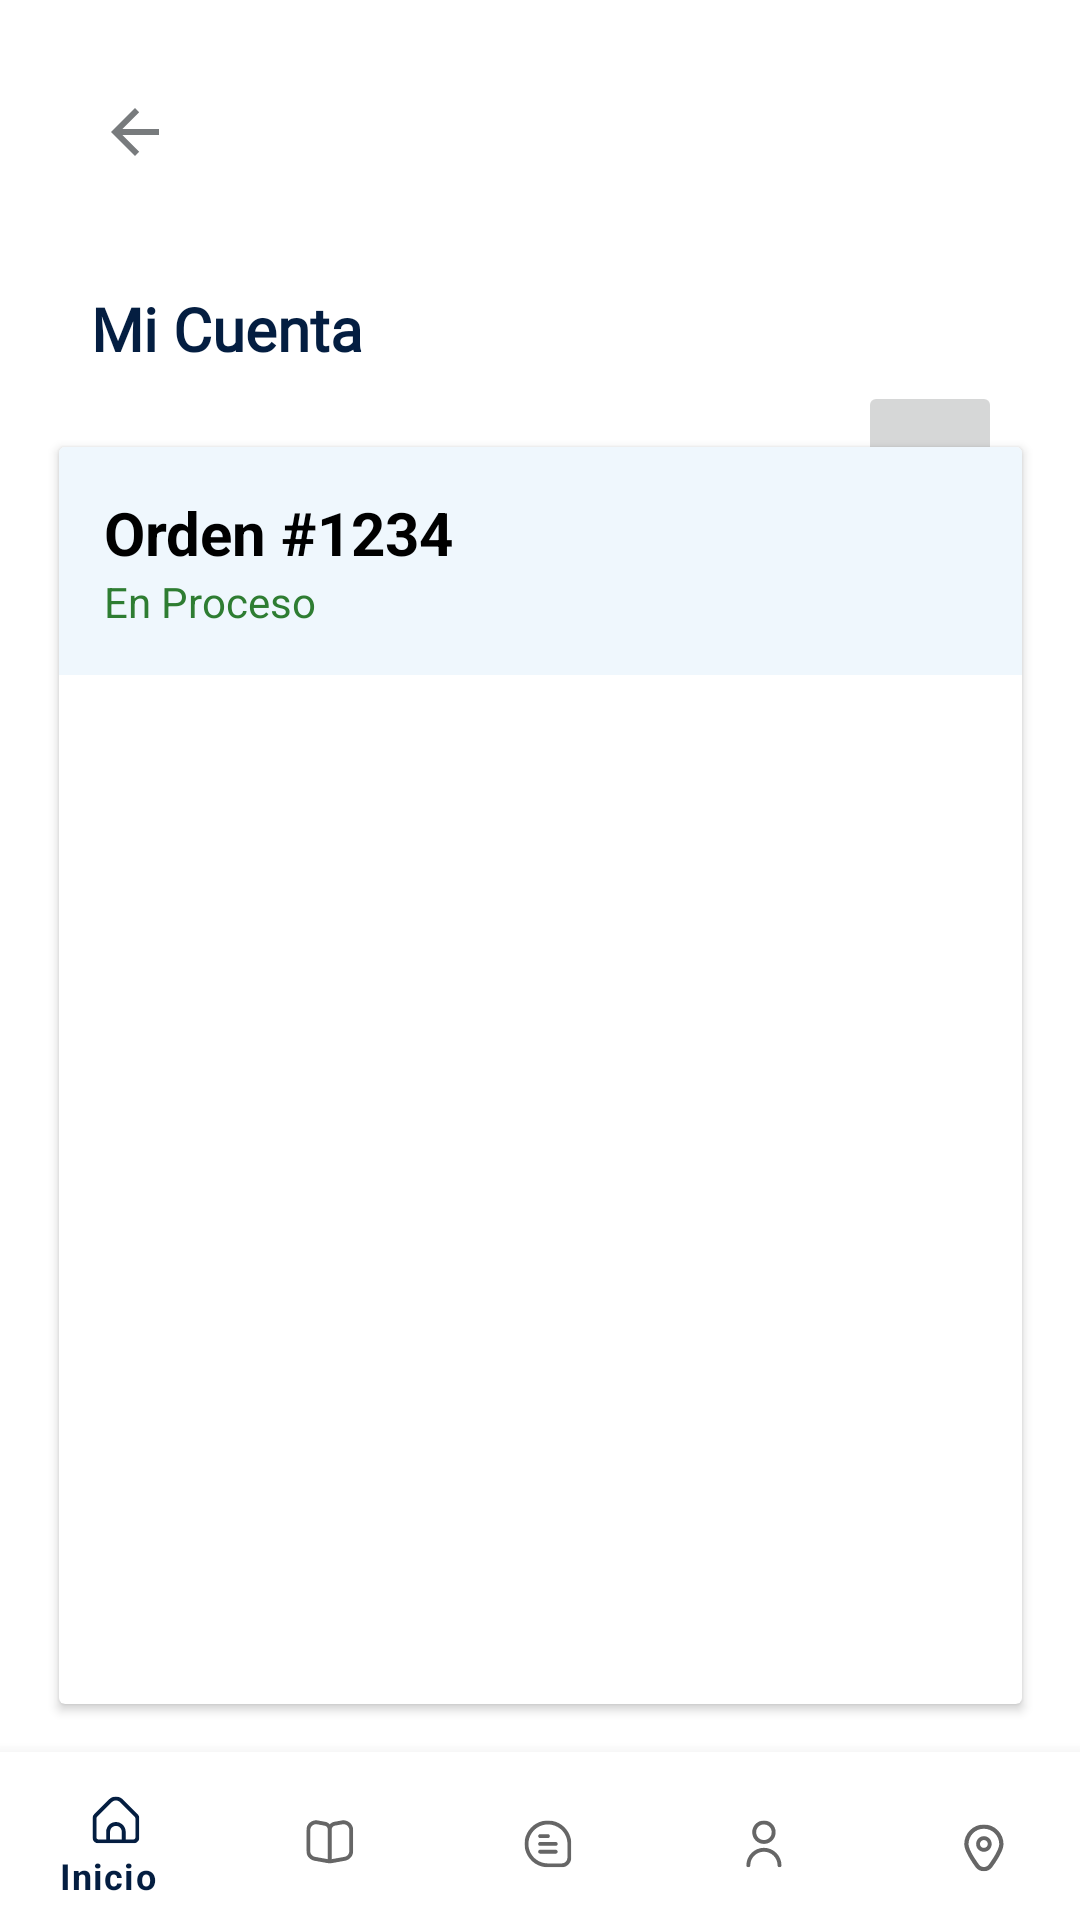

Icon bounding boxes for this 1080*1920 phone screenshot, format (x1, y1, x2, y2):
Volver hacia atrás: (111, 108, 159, 156)
